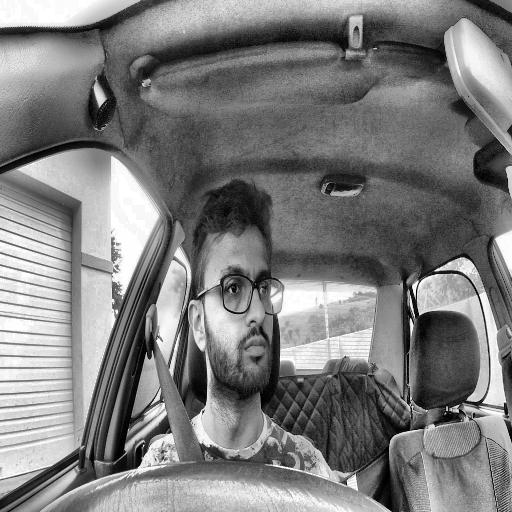awake: (187, 180, 284, 402)
